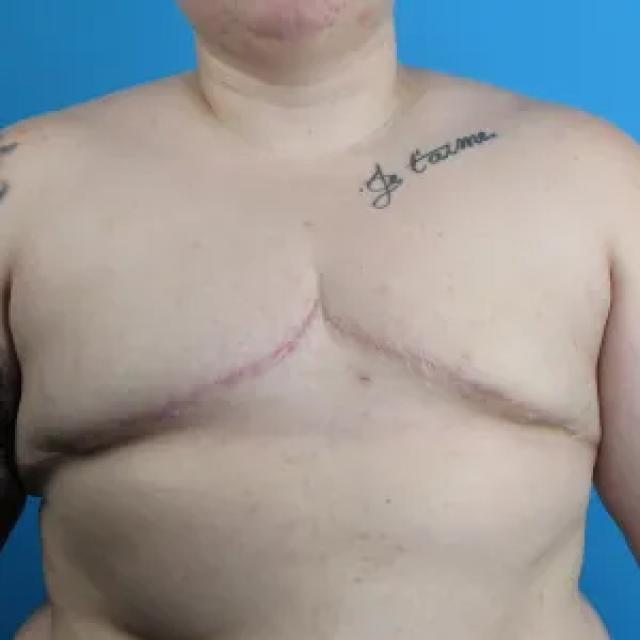Seno herido: (0, 232, 317, 503), (322, 232, 620, 502)
